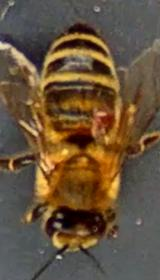varroa_mite: (85, 104, 120, 134)
